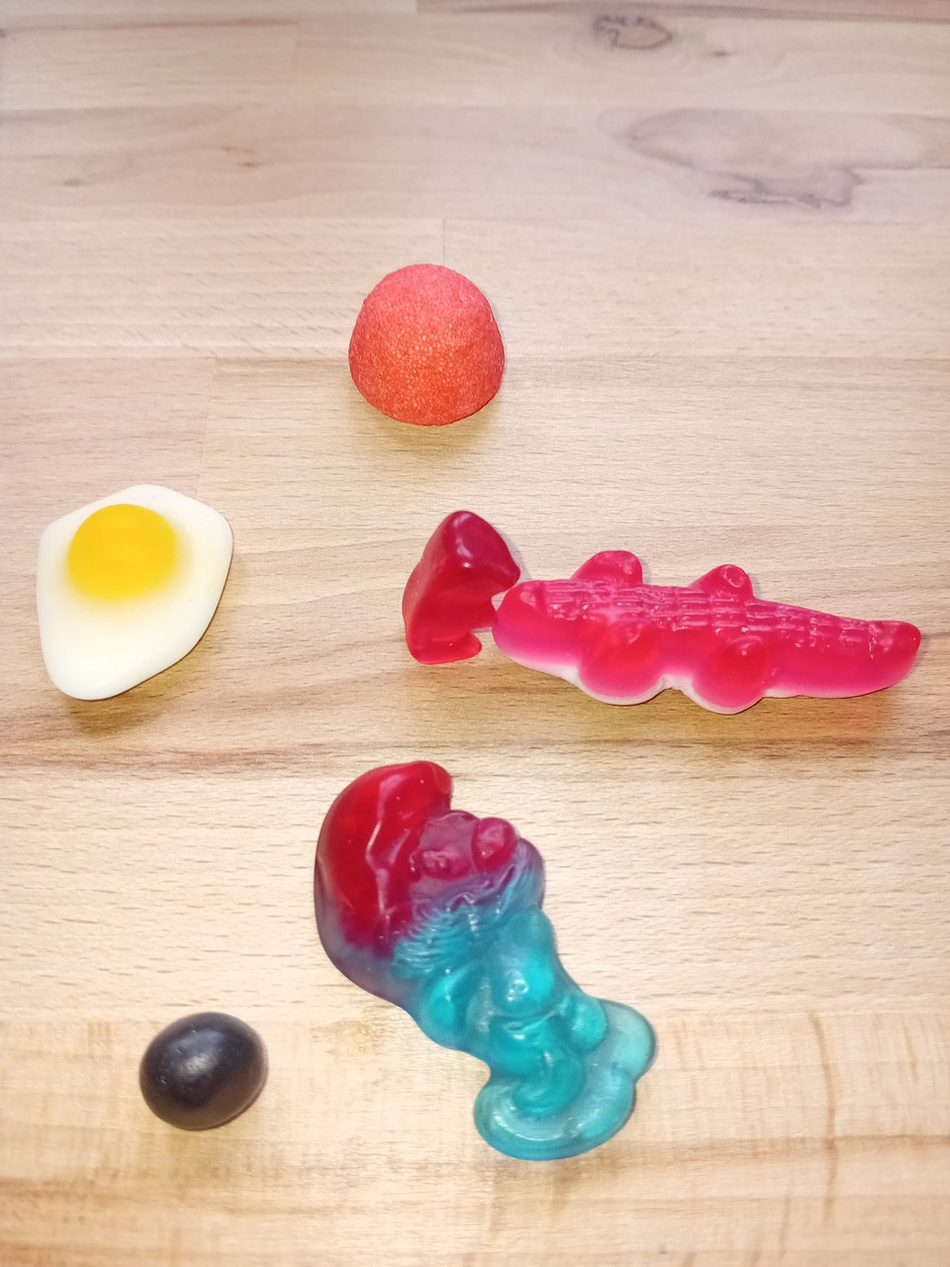crocodile_rouge: (491, 549, 932, 718)
dragibus_noir: (128, 1008, 273, 1139)
oeuf_oeuf: (27, 481, 248, 711)
ourson_rouge: (398, 504, 522, 673)
schtroumpf_bleu-rouge: (304, 752, 668, 1173)
tagada_fraise: (338, 247, 511, 432)
